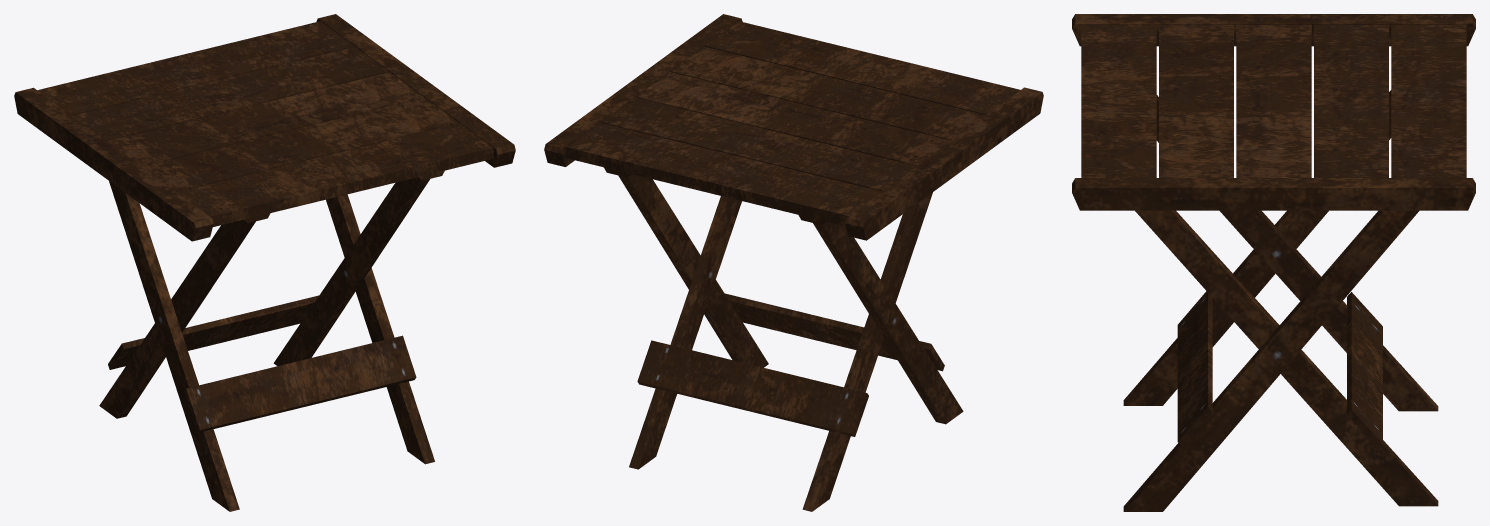
File: BarTable.fbx
The picture shows the model from 3 angles, left to right: view 1: azimuth 30°, elevation 25°; view 2: azimuth 150°, elevation 25°; view 3: azimuth 270°, elevation 25°; orthographic projection. The views are drawn at different scales.
Visible parts, largest first — view 1: Table; view 2: Table; view 3: Table.
Boxes of the visible parts, x1,y1,x2,y2 form: Table: [14, 14, 515, 511]; Table: [544, 14, 1043, 511]; Table: [1072, 14, 1475, 511].
Size of the model in its own units: 91.9 by 87.47 by 90.11.
